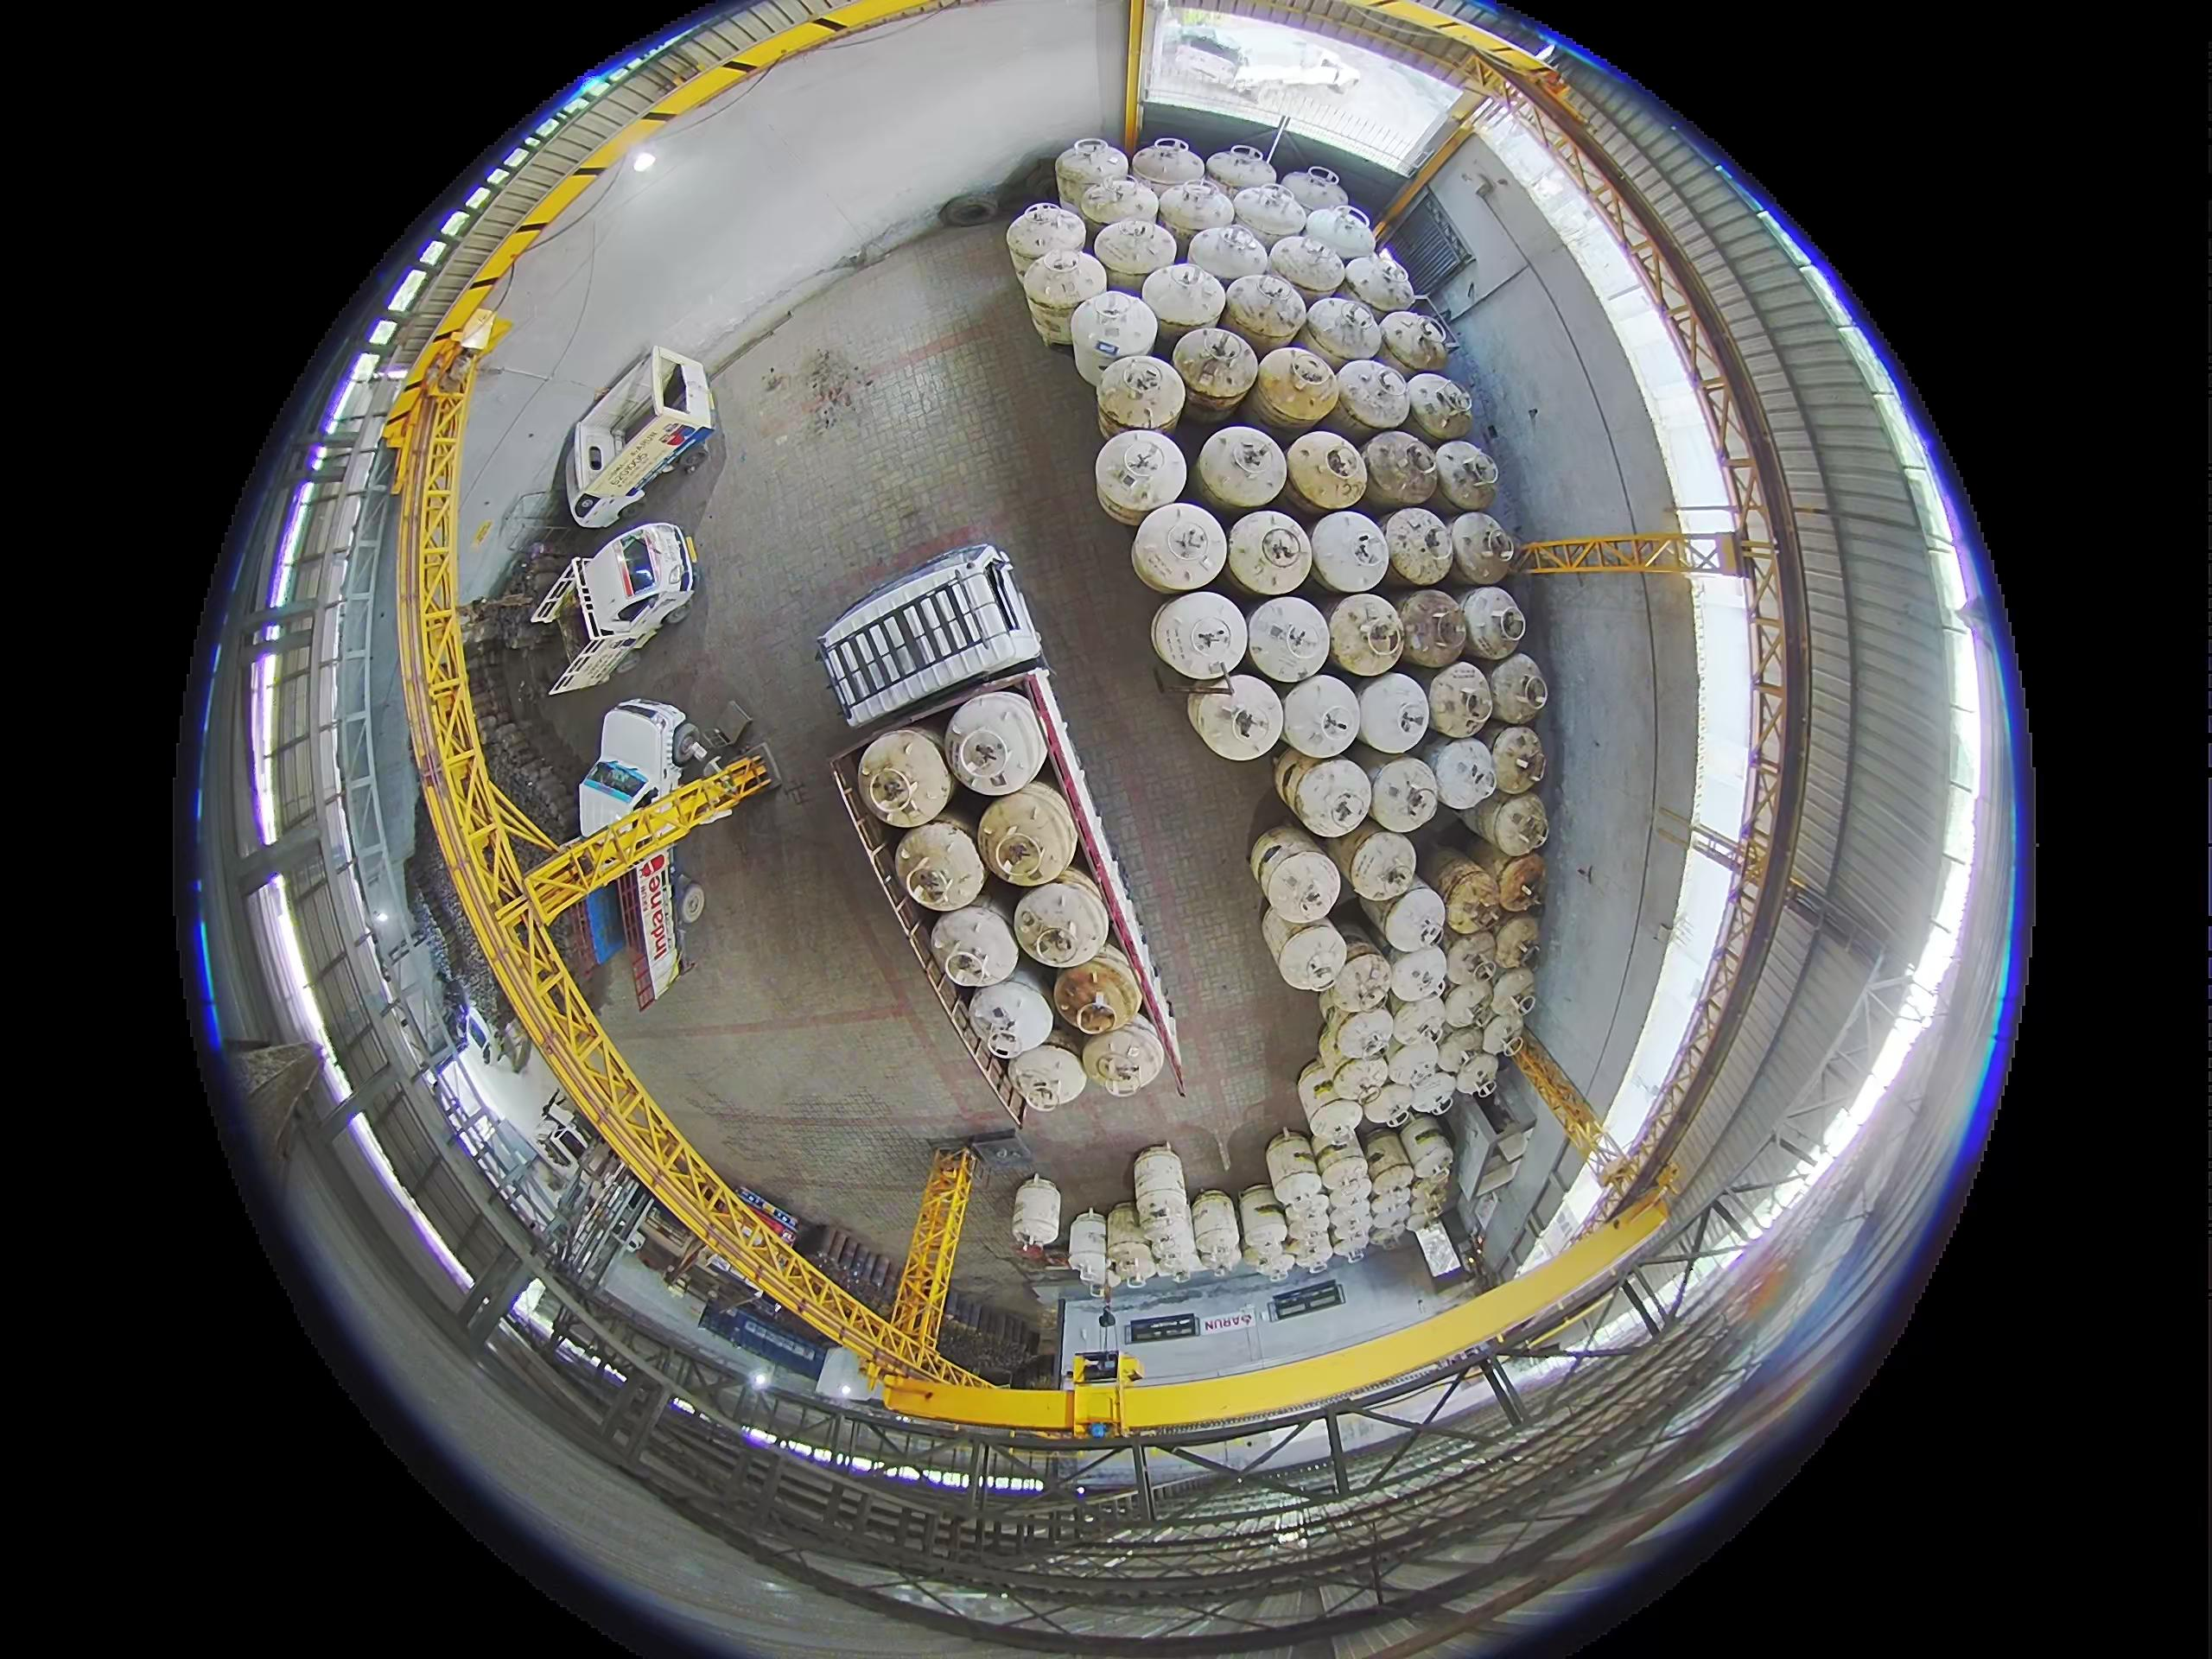cylinder: (944, 690, 1046, 796), (1143, 590, 1261, 679), (856, 727, 954, 828), (898, 819, 989, 925), (1131, 501, 1226, 595), (981, 791, 1070, 891), (1025, 884, 1116, 978), (1095, 429, 1184, 522), (1188, 676, 1283, 762), (1017, 251, 1101, 349), (1171, 325, 1259, 416), (971, 983, 1069, 1065), (1198, 425, 1287, 512), (1279, 673, 1365, 760), (1245, 595, 1332, 683), (1226, 510, 1314, 595), (1070, 290, 1151, 382), (1075, 1033, 1179, 1104), (1255, 346, 1341, 430), (1053, 962, 1144, 1041), (1334, 820, 1418, 905), (1310, 508, 1393, 593), (1285, 430, 1368, 515), (1097, 353, 1182, 436), (1289, 755, 1375, 837), (1222, 271, 1308, 349), (1326, 594, 1407, 676), (1363, 429, 1440, 512), (1356, 672, 1431, 756), (1141, 260, 1224, 334), (1395, 588, 1470, 669), (1334, 357, 1411, 434), (1304, 294, 1383, 368), (1157, 178, 1236, 252), (1255, 1126, 1331, 1203), (1383, 507, 1457, 587), (1432, 854, 1503, 935), (1367, 754, 1441, 832), (1427, 659, 1498, 740), (1007, 202, 1084, 276), (1188, 219, 1272, 287), (933, 901, 1019, 966), (1093, 217, 1173, 284), (1429, 736, 1500, 812), (1082, 176, 1160, 245), (1458, 586, 1528, 662), (1126, 1145, 1193, 1224), (1268, 233, 1346, 300), (1232, 182, 1310, 249), (1013, 1046, 1087, 1115), (1057, 139, 1129, 209), (1379, 881, 1448, 955), (1380, 310, 1454, 378), (1472, 789, 1548, 856), (1403, 372, 1474, 443), (1450, 510, 1518, 583), (1433, 440, 1501, 512), (1303, 202, 1378, 266), (1322, 954, 1389, 1023), (1343, 251, 1416, 315), (1130, 138, 1205, 199), (1486, 653, 1548, 724), (1387, 944, 1452, 1011), (1487, 725, 1548, 796), (1383, 1036, 1448, 1103), (1259, 1224, 1347, 1272), (1330, 1004, 1396, 1068), (1442, 930, 1504, 996), (1012, 1174, 1061, 1256), (1400, 1115, 1454, 1185), (1206, 143, 1278, 197), (1330, 1046, 1392, 1106), (1305, 1088, 1365, 1147), (1280, 166, 1349, 218), (1071, 1201, 1115, 1280), (1389, 994, 1449, 1052), (1363, 1128, 1415, 1192), (1327, 1181, 1373, 1255), (1313, 1136, 1368, 1198), (1273, 750, 1325, 814), (1440, 977, 1497, 1034), (1495, 853, 1547, 913), (1357, 1082, 1416, 1135), (1492, 914, 1542, 973), (1486, 967, 1535, 1027), (1437, 1024, 1490, 1078), (1481, 1007, 1533, 1062), (1206, 1186, 1249, 1251), (1405, 1176, 1453, 1230), (1453, 1050, 1502, 1102), (1367, 1193, 1413, 1248)
truck: (817, 543, 1185, 1127), (520, 350, 723, 696), (572, 699, 732, 996)
